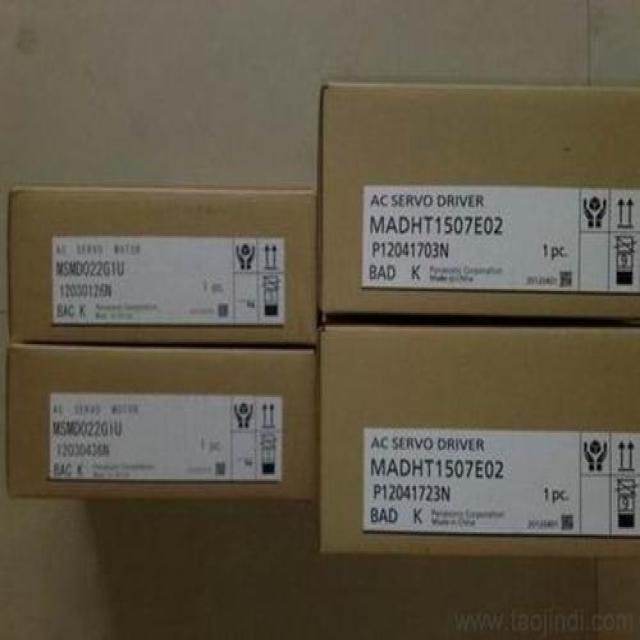box: (317, 83, 639, 321), (315, 325, 639, 558), (9, 186, 318, 347), (4, 344, 316, 499)
